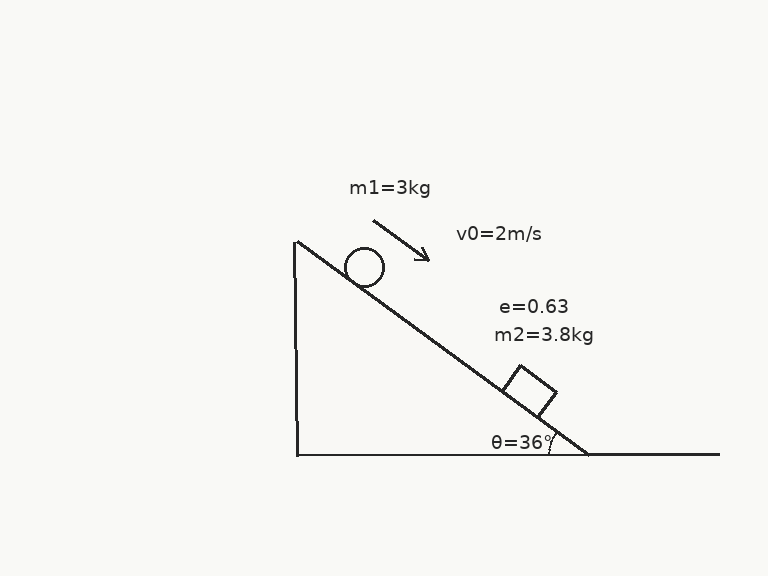ball: (342, 245, 386, 289)
block: (499, 363, 558, 419)
ramp: (295, 241, 591, 457)
